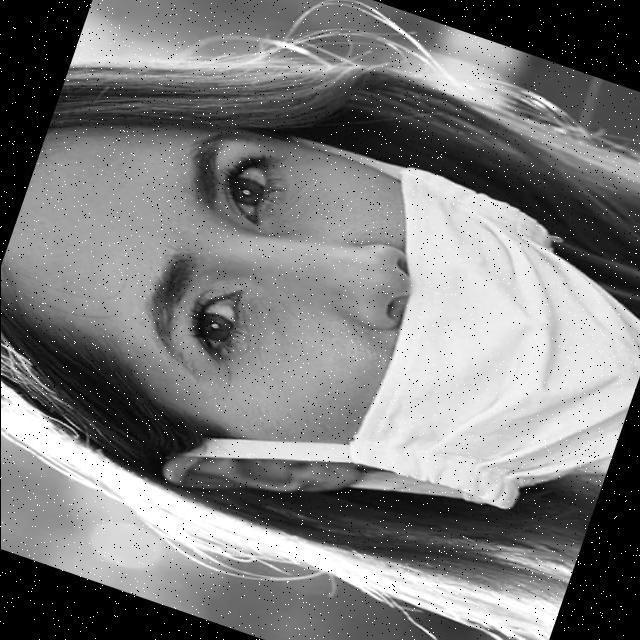no_gloves: (0, 5, 183, 495)
no_hairnet: (353, 164, 537, 483)
